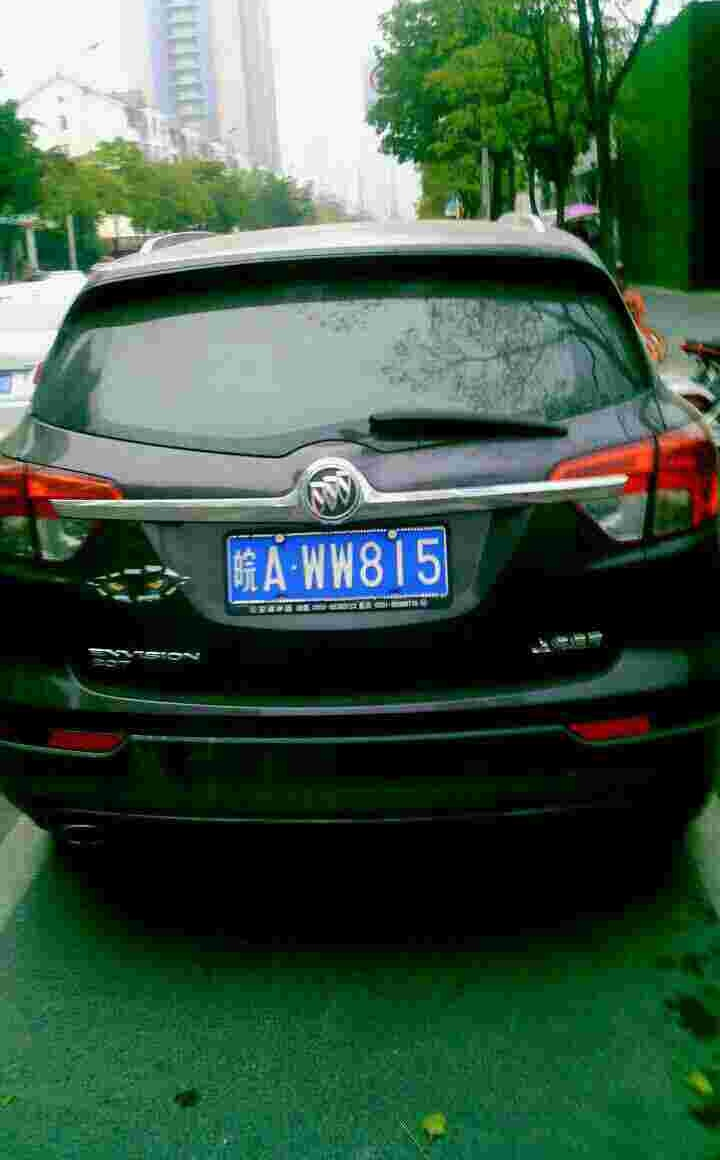plate: (228, 523, 453, 608)
